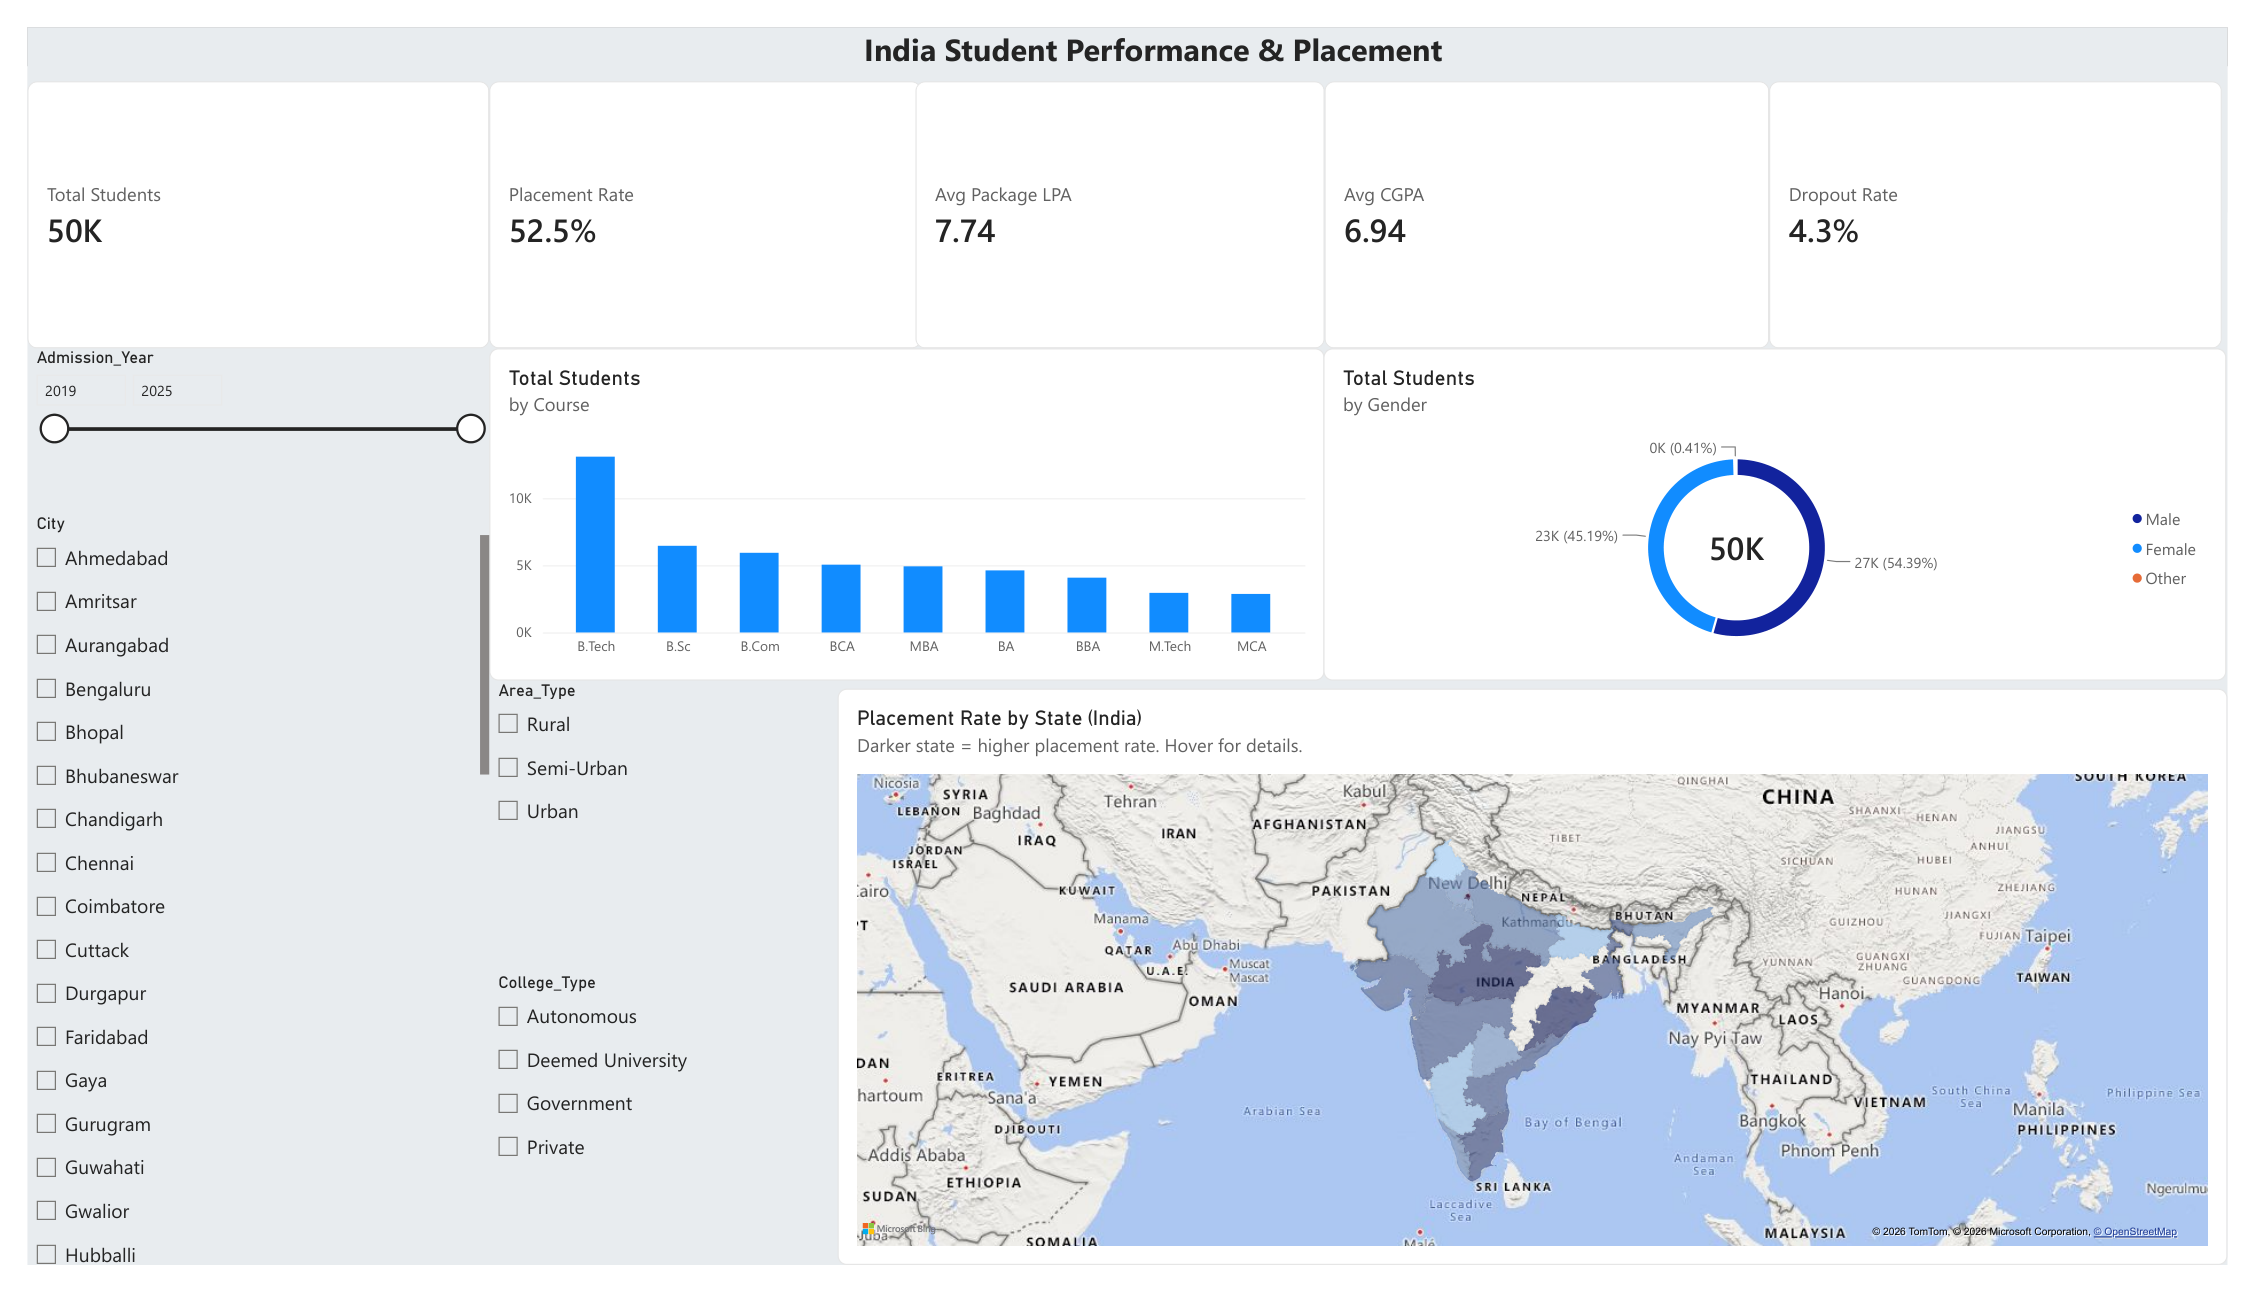

The dashboard page shown, as its layout file describes it:
{"tool":"powerbi","page":{"name":"Overview","canvas":[1920,1080],"ordinal":0},"visuals":[{"type":"cardVisual","fields":{"Data":["Students.Placement Rate"]},"box":[403.3,46.7,376.7,233.3],"z":0},{"type":"cardVisual","fields":{"Data":["Students.Total Students"]},"box":[0,46.7,403.3,233.3],"z":1000},{"type":"cardVisual","fields":{"Data":["Students.Avg Package LPA"]},"box":[775,46.7,356.7,233.3],"z":2000},{"type":"cardVisual","fields":{"Data":["Students.Avg CGPA"]},"box":[1131.7,46.7,388.3,233.3],"z":3000},{"type":"cardVisual","fields":{"Data":["Students.Dropout Rate"]},"box":[1520,46.7,395,233.3],"z":4000},{"type":"filledMap","title":"Placement Rate by State (India)","fields":{"Category":["Students.State Location"]},"box":[707,577,1213,503],"z":5000},{"type":"clusteredColumnChart","fields":{"Category":["Students.Course"],"Y":["Students.Total Students"]},"box":[403.3,280,728.3,290],"z":6000},{"type":"donutChart","fields":{"Category":["Students.Gender"],"Y":["Students.Total Students"]},"box":[1131,280,788,290],"z":7000},{"type":"slicer","fields":{"Values":["Students.Admission_Year"]},"box":[0,280,403.3,150],"z":8000},{"type":"slicer","fields":{"Values":["Students.College_Type"]},"box":[403.3,825,278.3,255],"z":10000},{"type":"textbox","box":[258.3,0,1448.3,46.7],"z":12000},{"type":"slicer","fields":{"Values":["Students.Area_Type"]},"box":[403.3,570,301.7,255],"z":12001},{"type":"slicer","fields":{"Values":["Students.City"]},"box":[0,425,403.3,655],"z":12002}]}

Visuals, with their boxes in screenshot pixels (x1, y1, x2, y2), scaled from the page's 1920x1080 canvas onto the 2255x1293 screenshot:
cardVisual - Students.Placement Rate: 474, 56, 916, 335
cardVisual - Students.Total Students: 0, 56, 474, 335
cardVisual - Students.Avg Package LPA: 910, 56, 1329, 335
cardVisual - Students.Avg CGPA: 1329, 56, 1785, 335
cardVisual - Students.Dropout Rate: 1785, 56, 2249, 335
"Placement Rate by State (India)" filledMap: 830, 691, 2254, 1292
clusteredColumnChart - Students.Course x Students.Total Students: 474, 335, 1329, 682
donutChart - Students.Gender x Students.Total Students: 1328, 335, 2254, 682
slicer - Students.Admission_Year: 0, 335, 474, 515
slicer - Students.College_Type: 474, 988, 801, 1292
textbox: 303, 0, 2004, 56
slicer - Students.Area_Type: 474, 682, 828, 988
slicer - Students.City: 0, 509, 474, 1292
